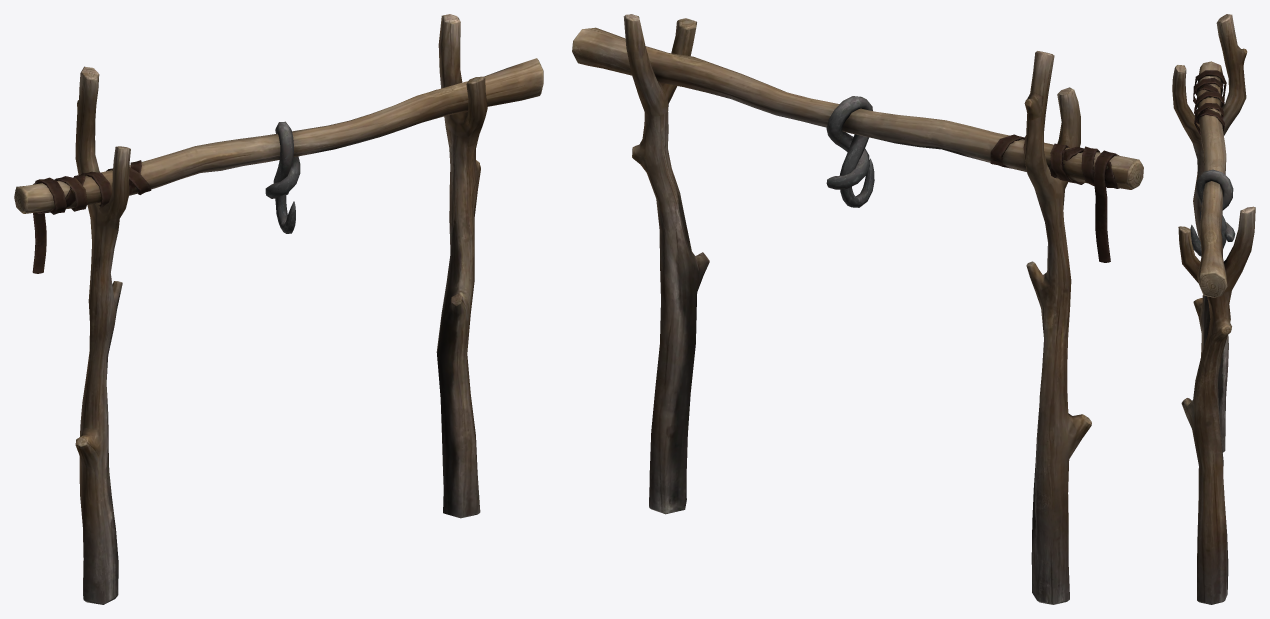
The picture shows the model from 3 angles, left to right: view 1: azimuth 30°, elevation 25°; view 2: azimuth 150°, elevation 25°; view 3: azimuth 270°, elevation 25°; orthographic projection. The views are drawn at different scales.
Visible parts, largest first — view 1: SM_Campfire_01_LOD0; view 2: SM_Campfire_01_LOD0; view 3: SM_Campfire_01_LOD0.
Boxes of the visible parts, x1=… form: SM_Campfire_01_LOD0: x1=14, y1=14, x2=543, y2=604; SM_Campfire_01_LOD0: x1=572, y1=14, x2=1143, y2=604; SM_Campfire_01_LOD0: x1=1172, y1=14, x2=1255, y2=604.
Bounding box in the file's own units: 1.75 × 1.67 × 0.2901.
Materials: 1 (1 with a texture image).
